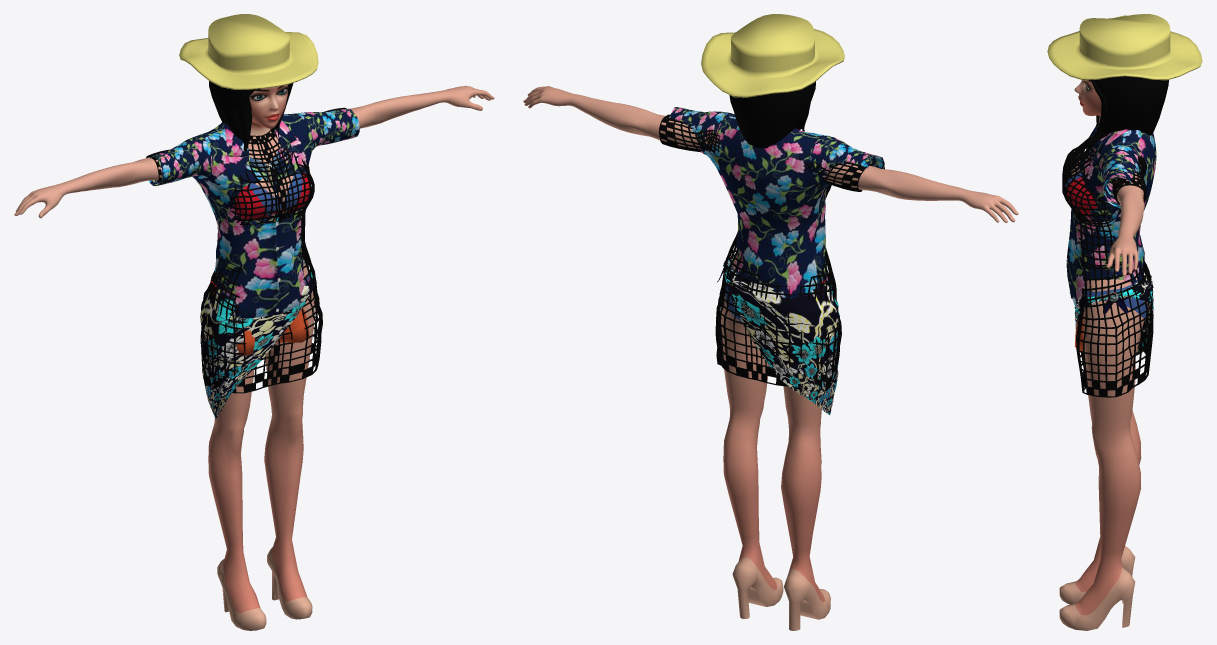
File: new_Ledy2.fbx
3 views of the same model, side by side, from view 1: azimuth 30°, elevation 25°; view 2: azimuth 150°, elevation 25°; view 3: azimuth 270°, elevation 25° (orthographic). The views are drawn at different scales.
Parts seen in each view (by area): view 1: body, Shirt, Fishnet, Hat, Pareo, Hair, Shots, Bra1, Bra2; view 2: body, Shirt, Hat, Pareo, Fishnet, Hair; view 3: body, Fishnet, Hat, Shirt, Hair, Pareo, Bra2, Underware1.
Part boxes in pixels (bbox=[...]): body: bbox=[14, 85, 494, 630]; Shirt: bbox=[149, 108, 359, 318]; Fishnet: bbox=[146, 107, 346, 393]; Hat: bbox=[179, 14, 318, 89]; Pareo: bbox=[200, 259, 315, 418]; Hair: bbox=[209, 81, 293, 156]; Shots: bbox=[236, 307, 309, 355]; Bra1: bbox=[234, 171, 308, 218]; Bra2: bbox=[233, 172, 309, 220]; body: bbox=[523, 86, 1018, 630]; Shirt: bbox=[669, 107, 884, 299]; Hat: bbox=[701, 14, 844, 97]; Pareo: bbox=[717, 259, 839, 414]; Fishnet: bbox=[659, 114, 873, 390]; Hair: bbox=[729, 81, 815, 148]; body: bbox=[1059, 80, 1144, 630]; Fishnet: bbox=[1062, 127, 1153, 397]; Hat: bbox=[1047, 14, 1202, 80]; Shirt: bbox=[1066, 115, 1156, 312]; Hair: bbox=[1090, 76, 1168, 145]; Pareo: bbox=[1074, 273, 1153, 355]; Bra2: bbox=[1066, 177, 1097, 214]; Underware1: bbox=[1084, 281, 1147, 321].
Bounding box in the file's own units: 125 × 144 × 34.72.
